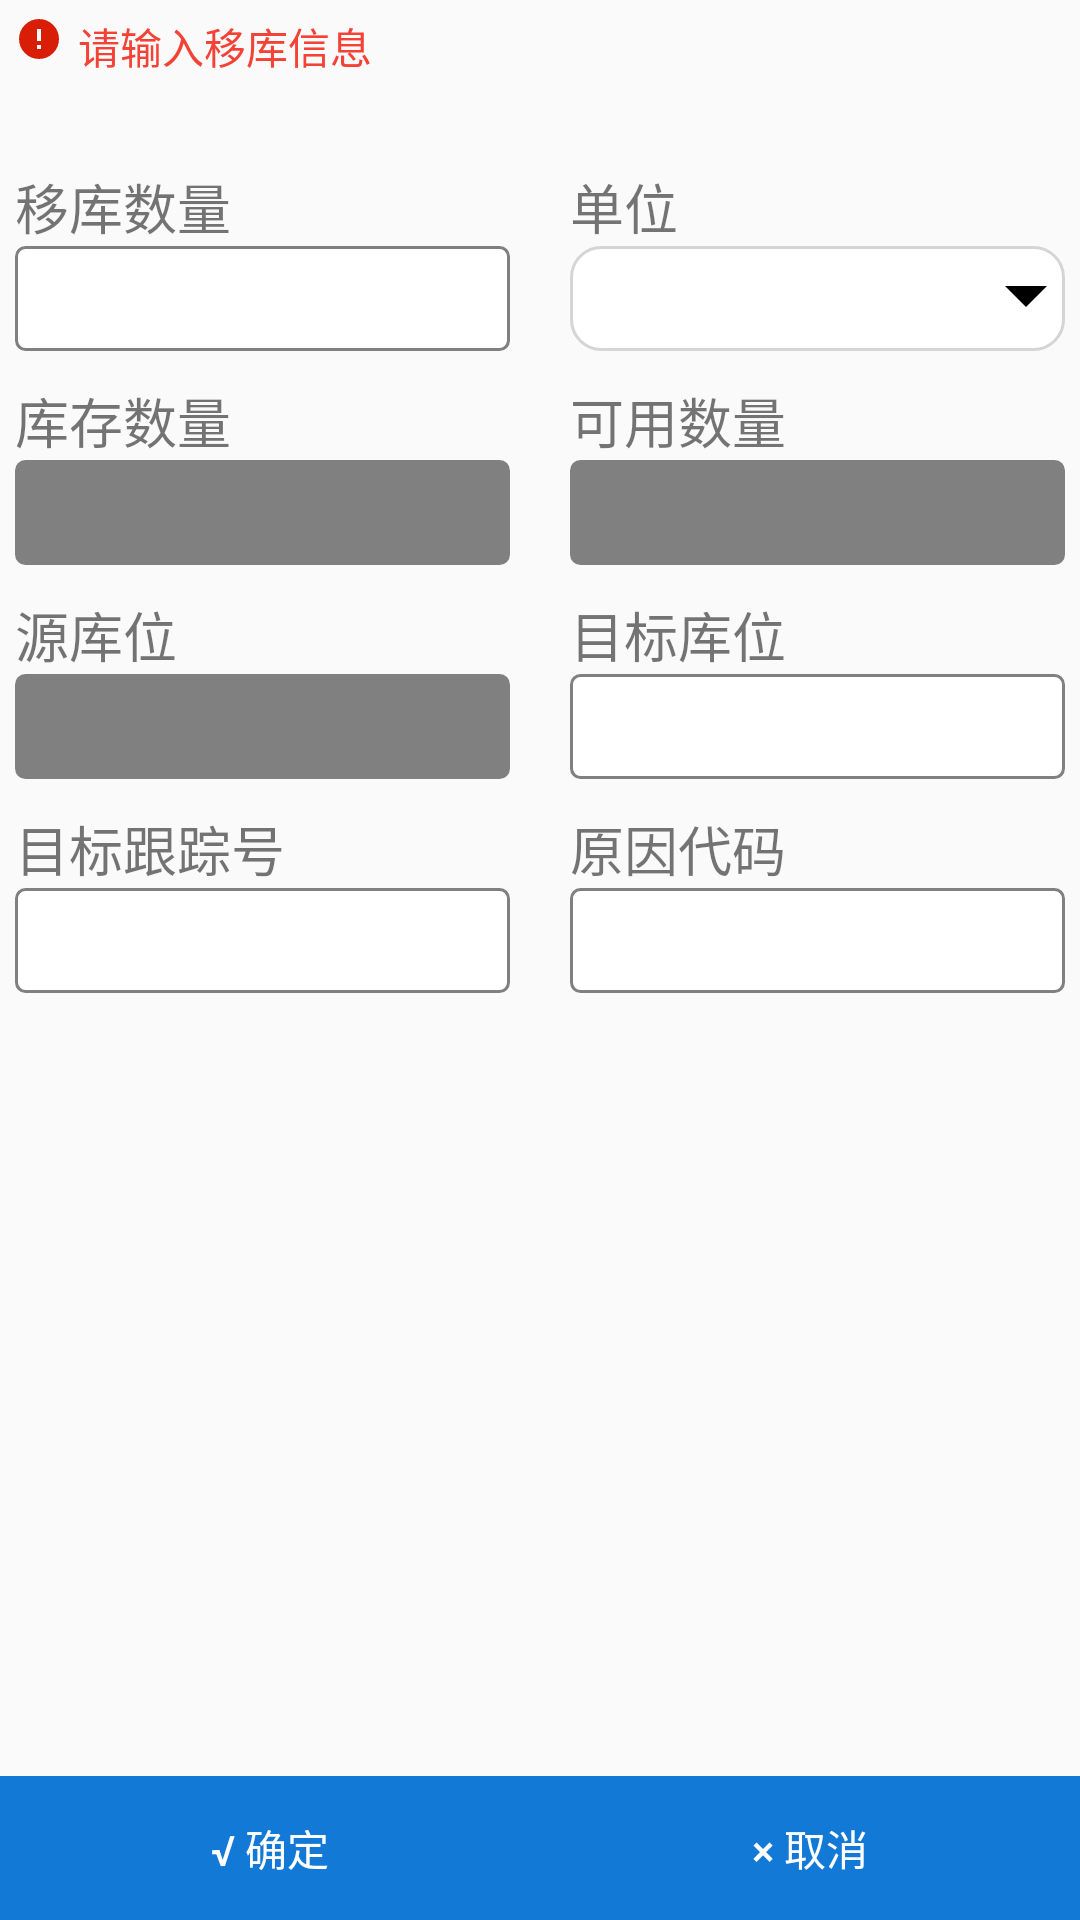

Point at icon controls on the screen. Image size 1080w x 1920h, points as [x,y].
error: [39,39]
